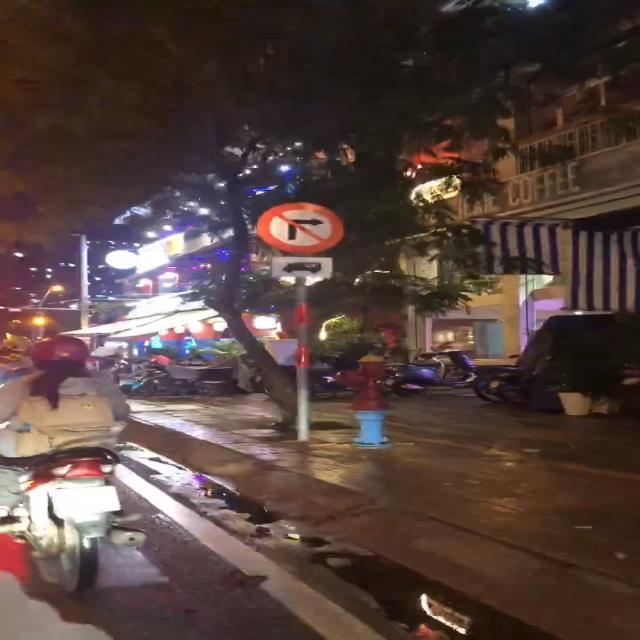Bien bao cam re phai: (242, 200, 345, 256)
